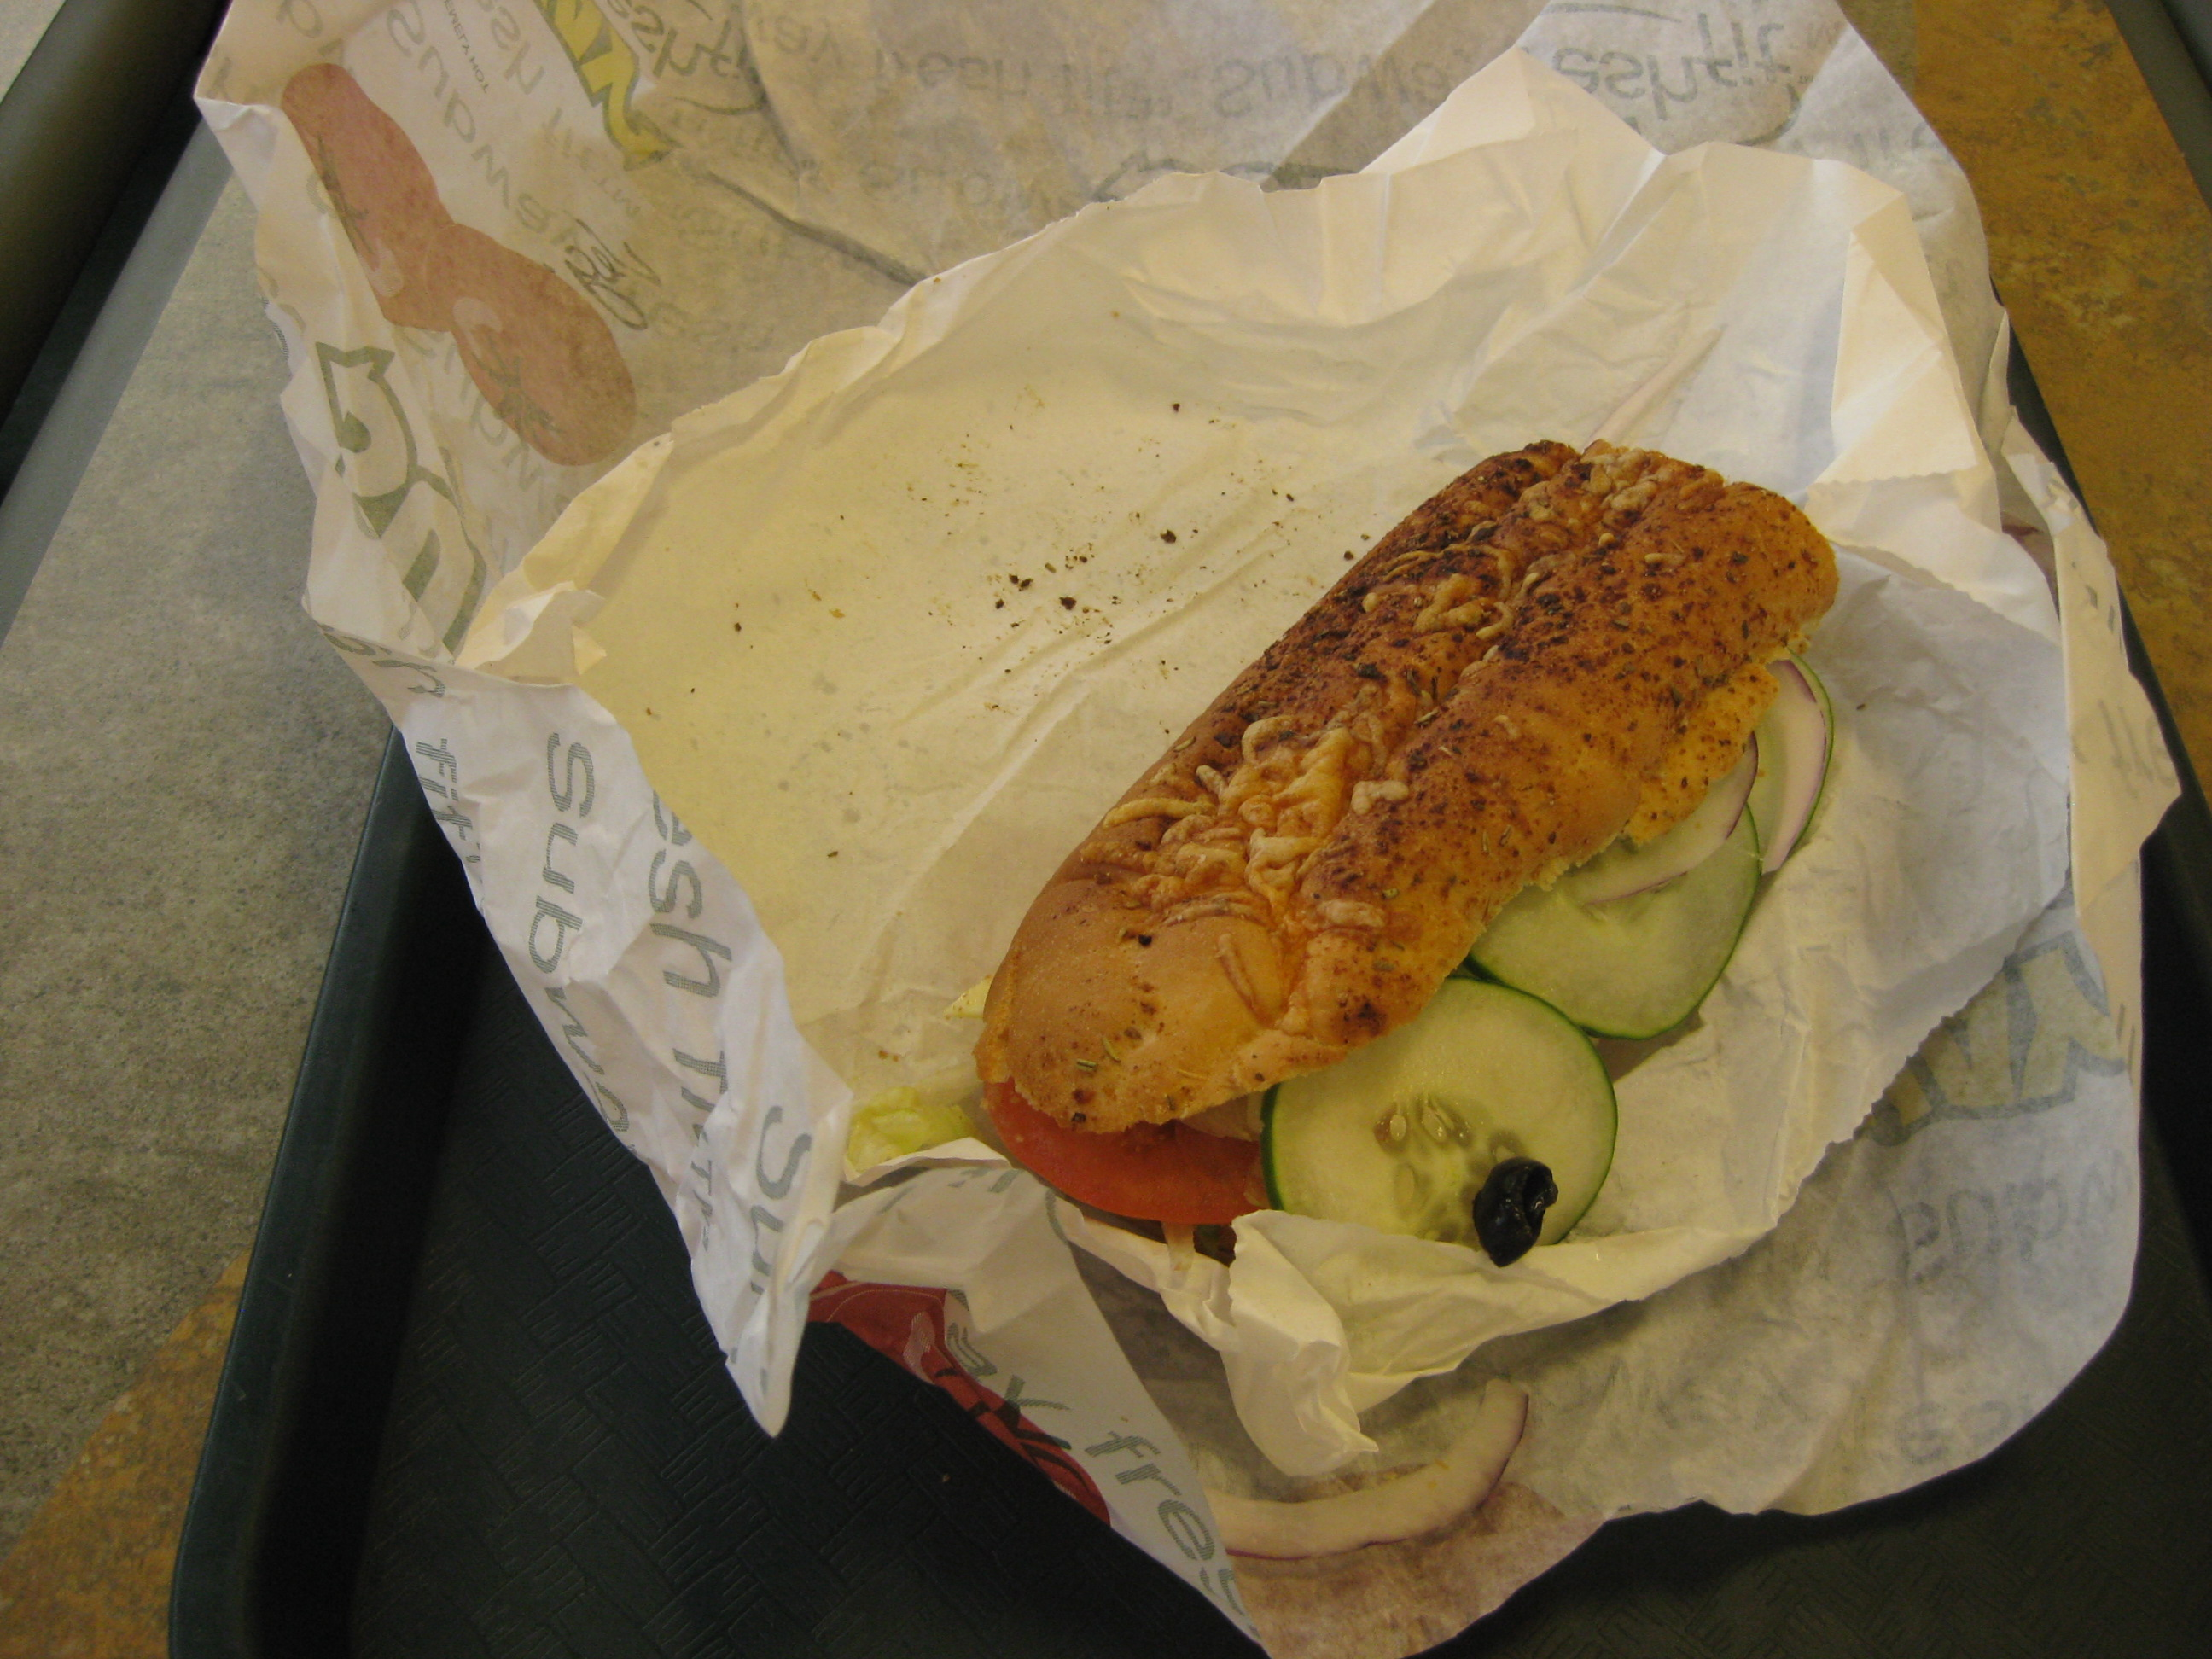sub: (977, 416, 1870, 1295)
